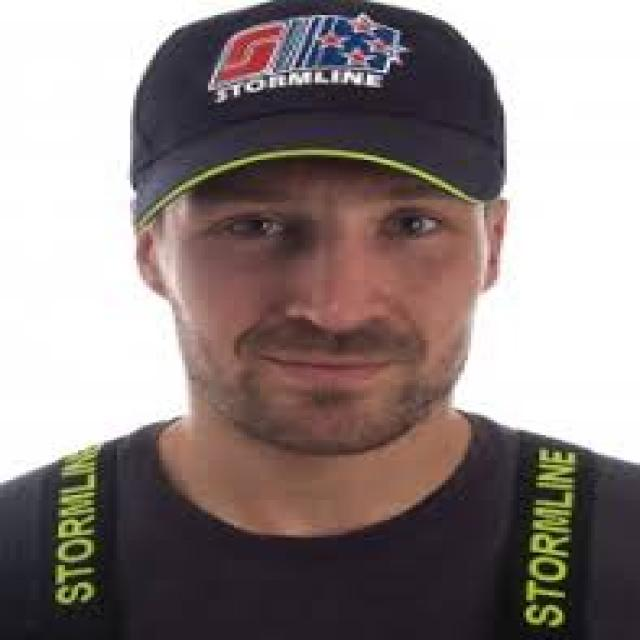3_gorra: (126, 0, 508, 230)
